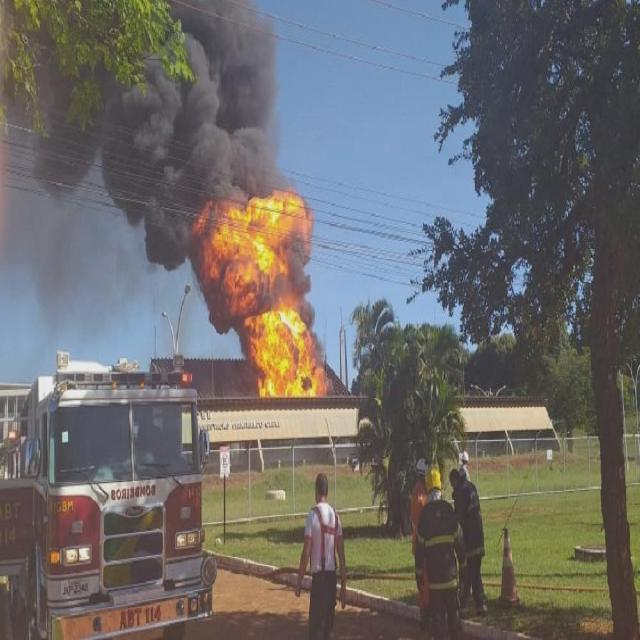Fire: (194, 172, 330, 402)
Smoke: (2, 6, 284, 180), (103, 182, 195, 276)
